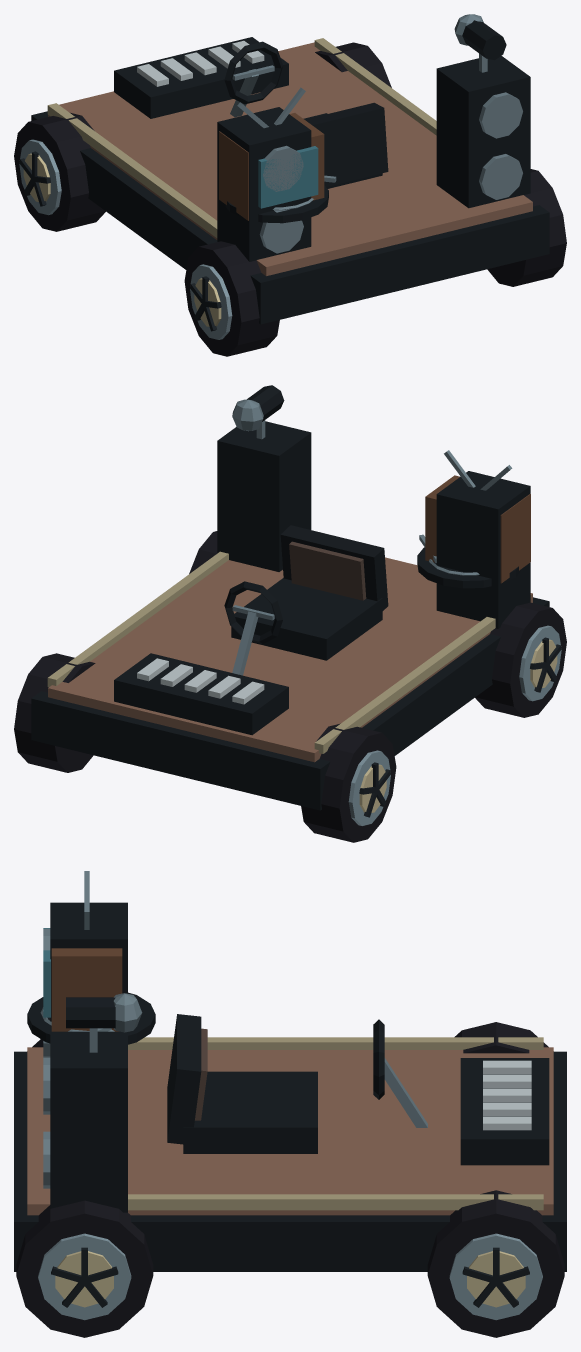
Rendered from kart.glb.
3 renders of one model, top to bottom at view 1: azimuth 30°, elevation 25°; view 2: azimuth 150°, elevation 25°; view 3: azimuth 270°, elevation 25°, orthographic. The views are drawn at different scales.
Parts seen in each view (by area): view 1: identity-stage-stage-platform-and-pa-towers, wheel-rear-left, wheel-front-left, identity-stage-driver-cockpit, identity-stage-motif-television, wheel-rear-right, identity-stage-motif-microphone, identity-stage-motif-vinyl, wheel-front-right; view 2: identity-stage-stage-platform-and-pa-towers, identity-stage-driver-cockpit, wheel-front-left, wheel-rear-left, wheel-front-right, identity-stage-motif-television, identity-stage-motif-microphone, identity-stage-motif-vinyl; view 3: identity-stage-stage-platform-and-pa-towers, identity-stage-driver-cockpit, wheel-front-right, wheel-rear-right, identity-stage-motif-television, identity-stage-motif-microphone, identity-stage-motif-vinyl, wheel-front-left.
Boxes of the visible parts, x1=… form: identity-stage-stage-platform-and-pa-towers: x1=31, y1=37, x2=549, y2=324; wheel-rear-left: x1=184, y1=241, x2=279, y2=356; wheel-front-left: x1=14, y1=112, x2=105, y2=231; identity-stage-driver-cockpit: x1=224, y1=41, x2=388, y2=188; identity-stage-motif-television: x1=219, y1=87, x2=324, y2=220; wheel-rear-right: x1=487, y1=169, x2=566, y2=286; identity-stage-motif-microphone: x1=454, y1=14, x2=506, y2=72; identity-stage-motif-vinyl: x1=225, y1=175, x2=336, y2=223; wheel-front-right: x1=315, y1=42, x2=391, y2=87; identity-stage-stage-platform-and-pa-towers: x1=31, y1=421, x2=549, y2=810; identity-stage-driver-cockpit: x1=224, y1=525, x2=388, y2=675; wheel-front-left: x1=301, y1=723, x2=396, y2=842; wheel-rear-left: x1=475, y1=602, x2=566, y2=717; wheel-front-right: x1=14, y1=653, x2=95, y2=772; identity-stage-motif-television: x1=425, y1=450, x2=530, y2=583; identity-stage-motif-microphone: x1=232, y1=385, x2=284, y2=439; identity-stage-motif-vinyl: x1=417, y1=534, x2=520, y2=588; identity-stage-stage-platform-and-pa-towers: x1=14, y1=902, x2=566, y2=1271; identity-stage-driver-cockpit: x1=167, y1=1014, x2=427, y2=1153; wheel-front-right: x1=427, y1=1190, x2=564, y2=1337; wheel-rear-right: x1=16, y1=1200, x2=153, y2=1337; identity-stage-motif-television: x1=43, y1=871, x2=122, y2=1031; identity-stage-motif-microphone: x1=66, y1=993, x2=141, y2=1052; identity-stage-motif-vinyl: x1=27, y1=992, x2=155, y2=1044; wheel-front-left: x1=454, y1=1022, x2=548, y2=1053.
Bounding box in the file's own units: 2.16 × 1.57 × 2.5.
